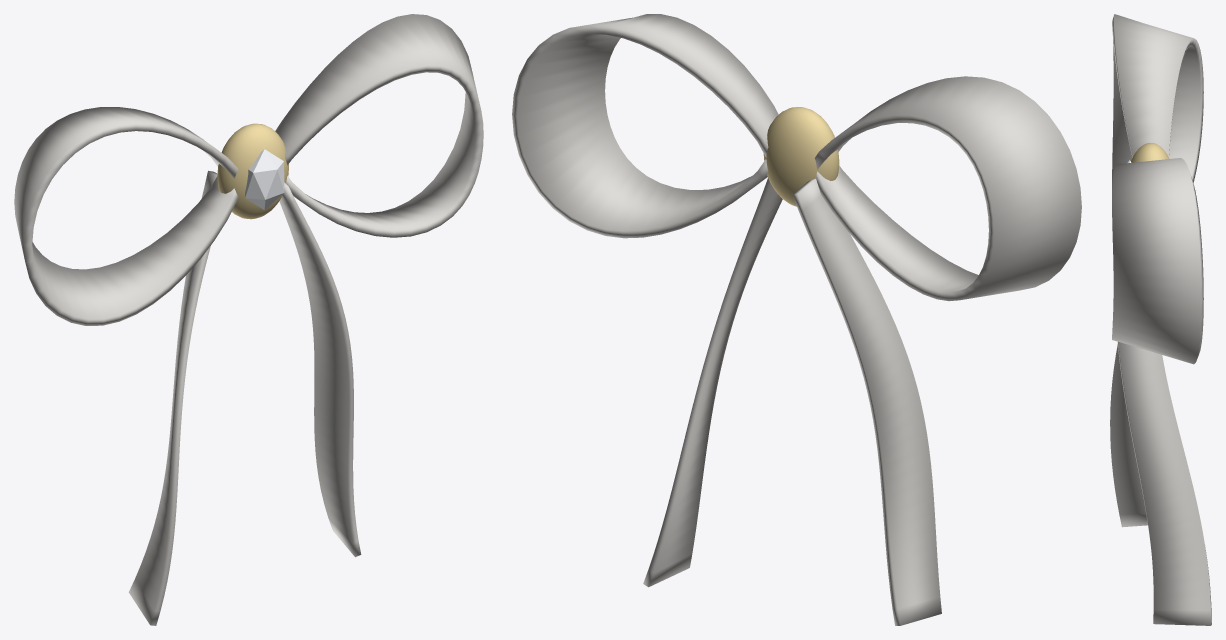
The model's file is monocoquette.glb.
3 views of the same model, side by side, from view 1: azimuth 30°, elevation 25°; view 2: azimuth 150°, elevation 25°; view 3: azimuth 270°, elevation 25° (orthographic). The views are drawn at different scales.
Parts seen in each view (by area): view 1: Mono_Coquette_Editorial; view 2: Mono_Coquette_Editorial; view 3: Mono_Coquette_Editorial.
Part boxes in pixels (box(x1,y1,x2,y2)): Mono_Coquette_Editorial: box(14, 14, 483, 625); Mono_Coquette_Editorial: box(512, 14, 1081, 625); Mono_Coquette_Editorial: box(1110, 14, 1211, 625).
Size of the model in its own units: 1.01 by 1 by 0.1916.
